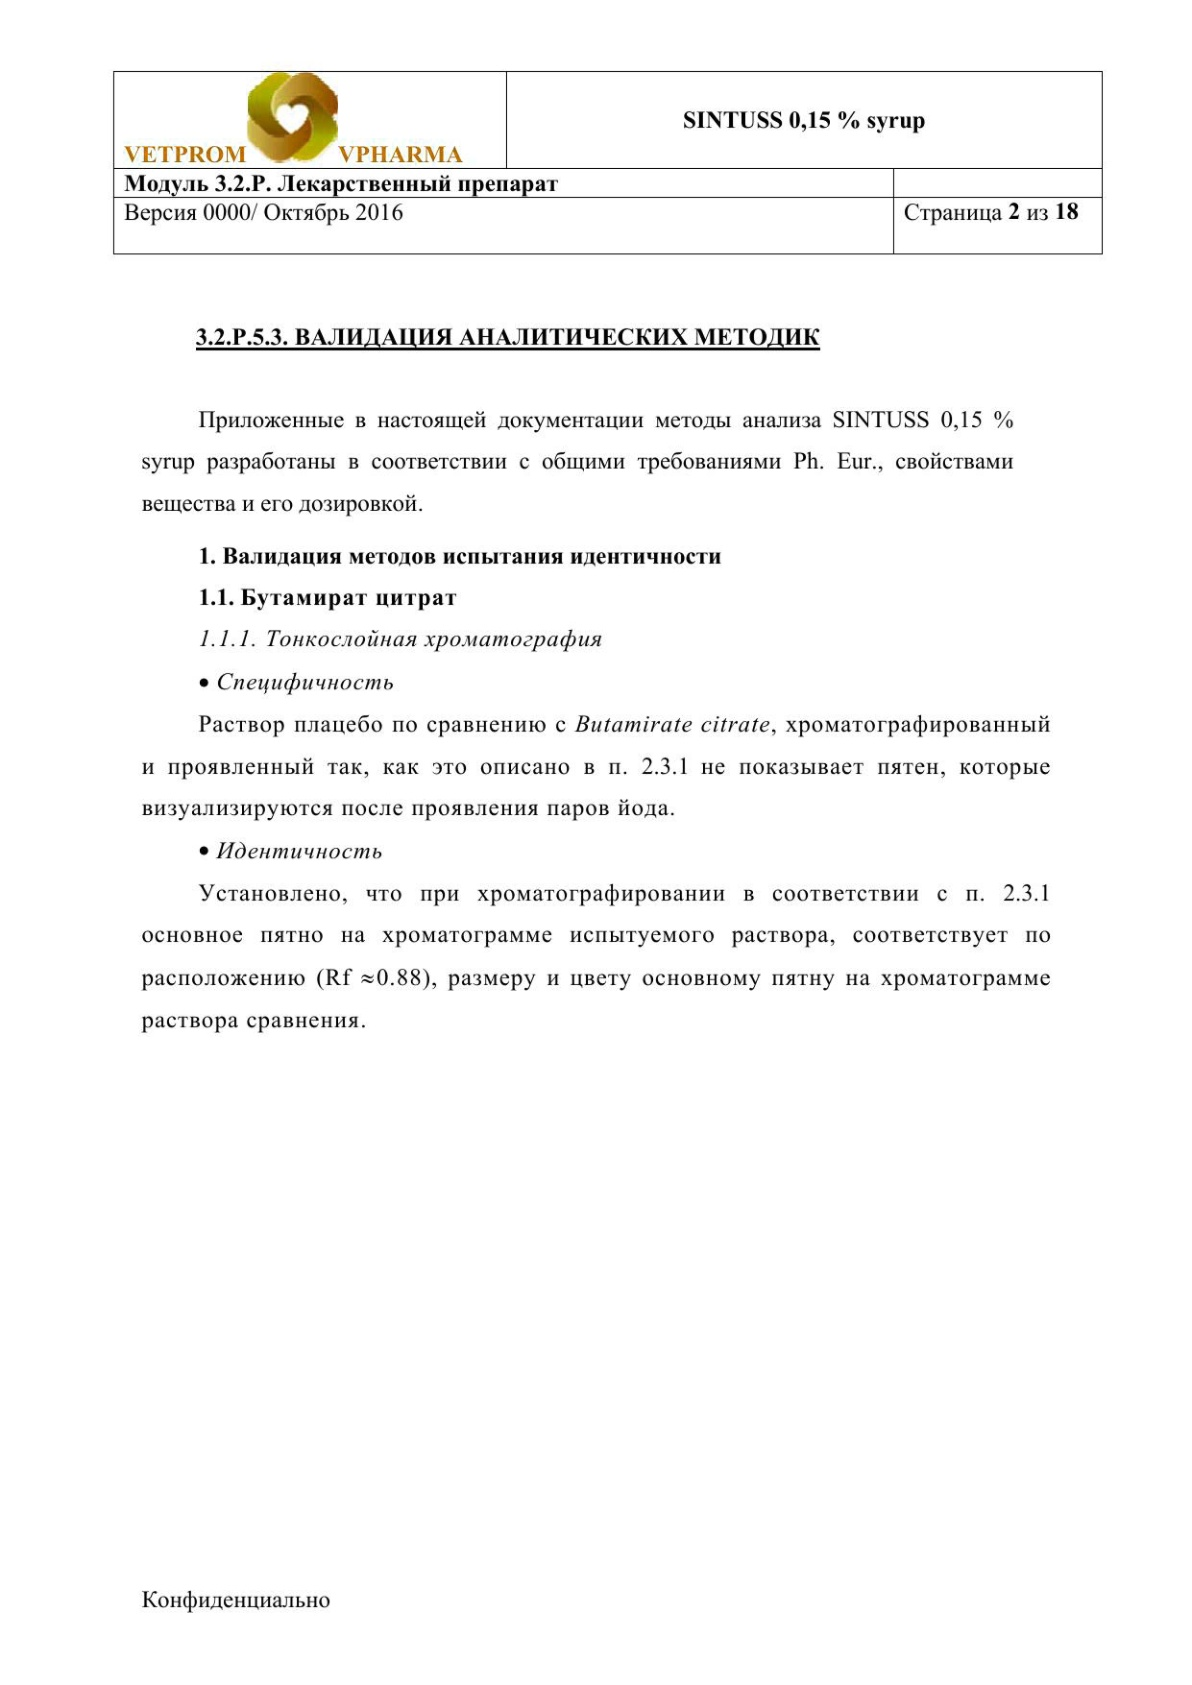merged_cells: (111, 70, 1103, 255)
